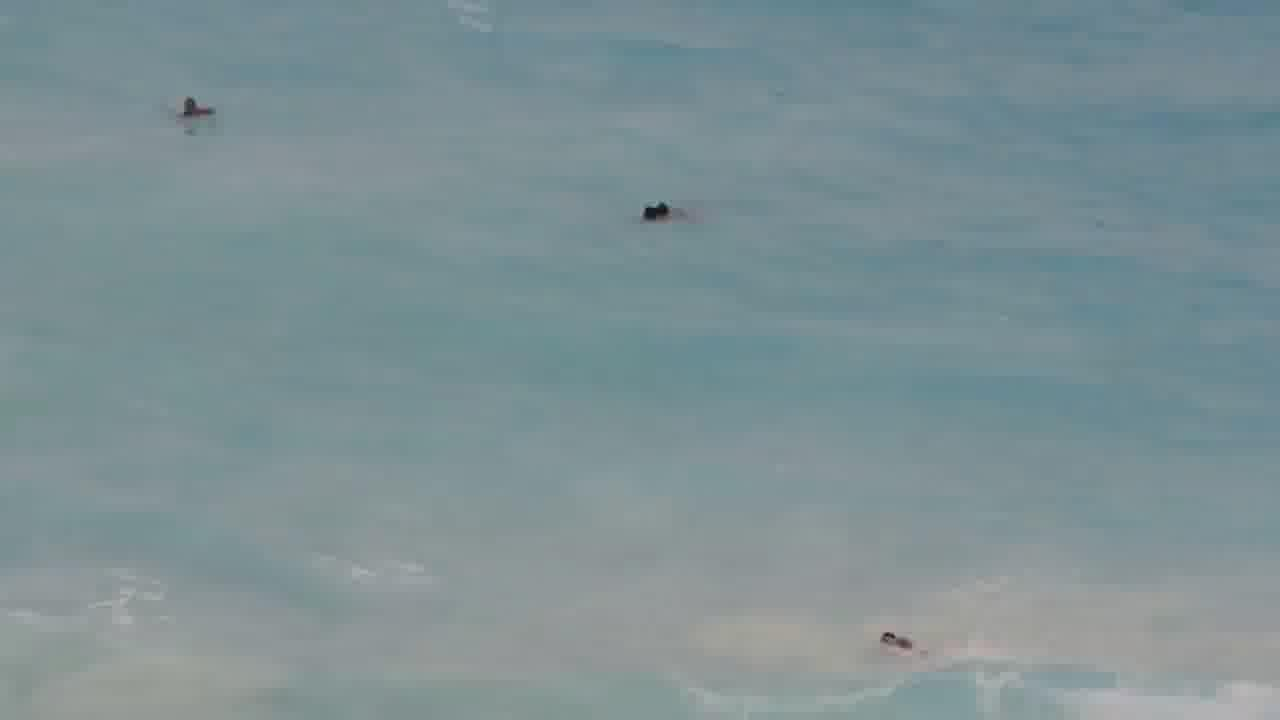swimmer: (629, 192, 687, 224), (876, 618, 920, 658), (170, 93, 216, 122)
